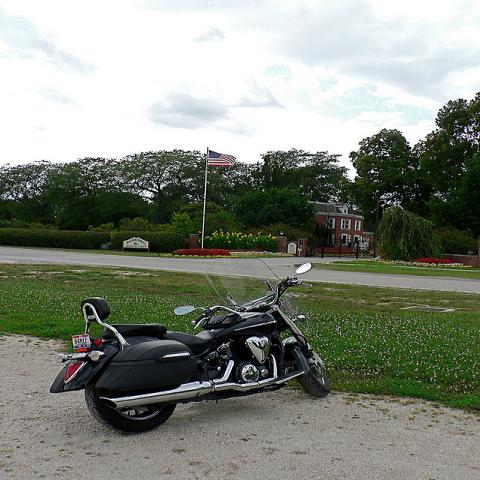motorcycle: (45, 256, 335, 438)
